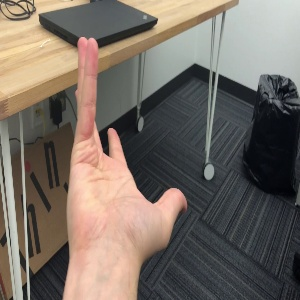hand: (67, 36, 188, 251)
